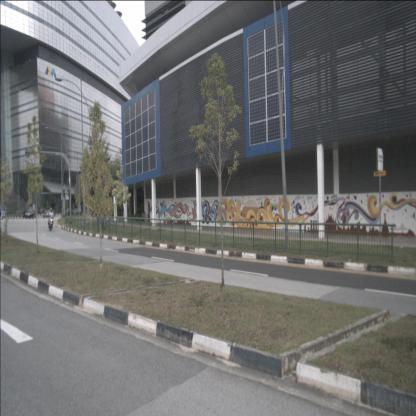vehicle-bicycle: (98, 214, 112, 232)
vehicle-car: (25, 206, 37, 219), (43, 209, 55, 219), (63, 207, 73, 216), (38, 207, 47, 216), (73, 208, 82, 216)
vehicle-motorcycle: (47, 207, 54, 232)
